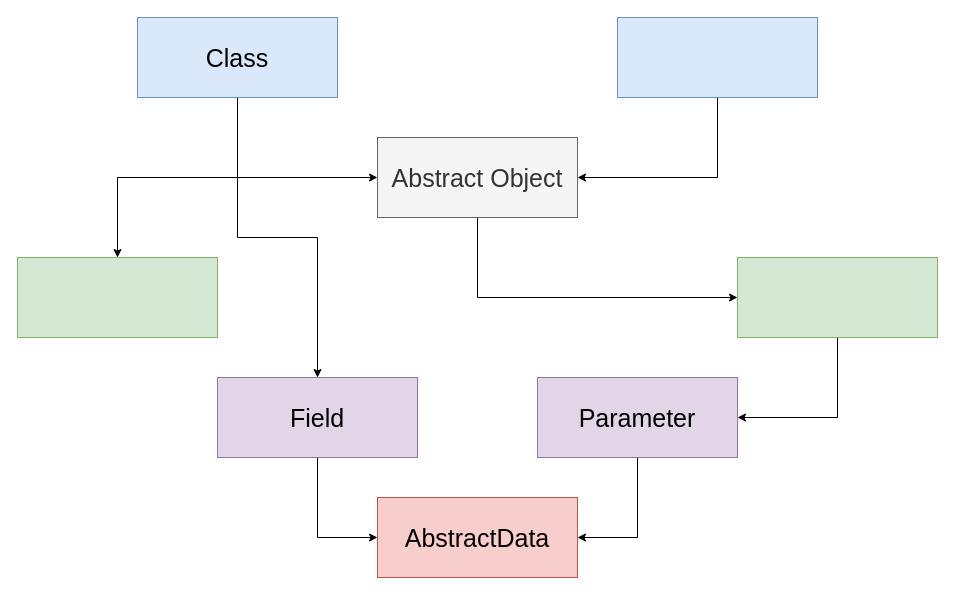
Some shapes in this 955 by 595 pixel diagram are drawn without their labels. The centre of each missing label's shape, as x and y in pixels:
"Constructor" belongs at [117,297].
"Interface" belongs at [717,57].
"Method" belongs at [837,297].
